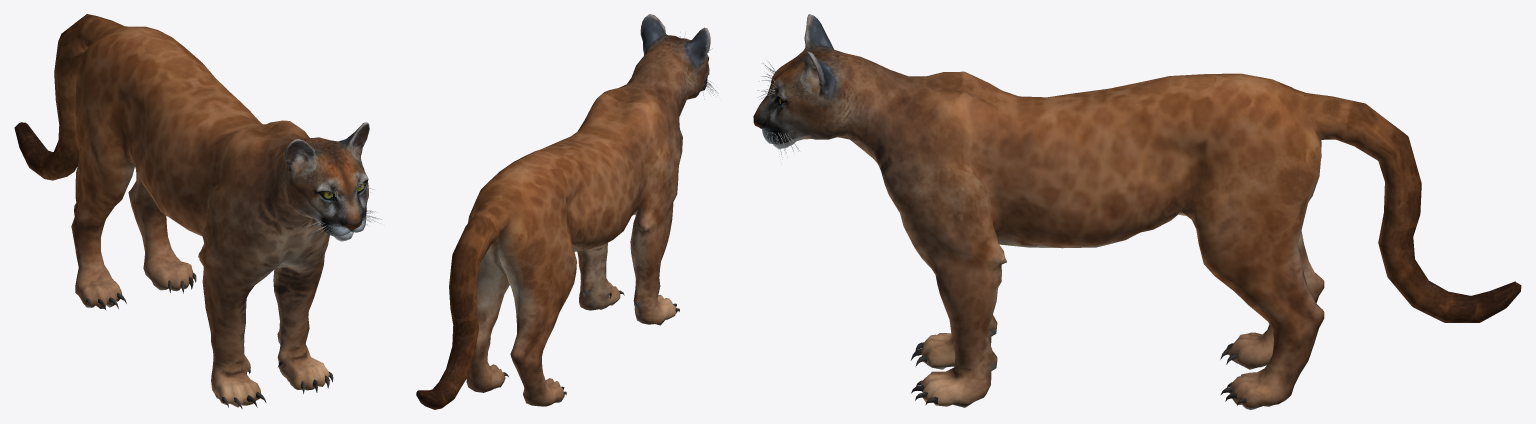
3 views of the same model, side by side, from view 1: azimuth 30°, elevation 25°; view 2: azimuth 150°, elevation 25°; view 3: azimuth 270°, elevation 25° (orthographic). The views are drawn at different scales.
Visible parts, largest first — view 1: sm_4_0_0_2, sm_1_0_0_1; view 2: sm_4_0_0_2, sm_1_0_0_1; view 3: sm_4_0_0_2, sm_1_0_0_1.
Part boxes in pixels (<box>): sm_4_0_0_2: <box>14,14,333,409</box>; sm_1_0_0_1: <box>283,122,381,241</box>; sm_4_0_0_2: <box>416,54,691,409</box>; sm_1_0_0_1: <box>640,14,718,99</box>; sm_4_0_0_2: <box>845,57,1521,409</box>; sm_1_0_0_1: <box>753,14,861,157</box>.
Bounding box in the file's own units: 0.3608 × 0.9257 × 1.84.
3 materials, 3 textured.
